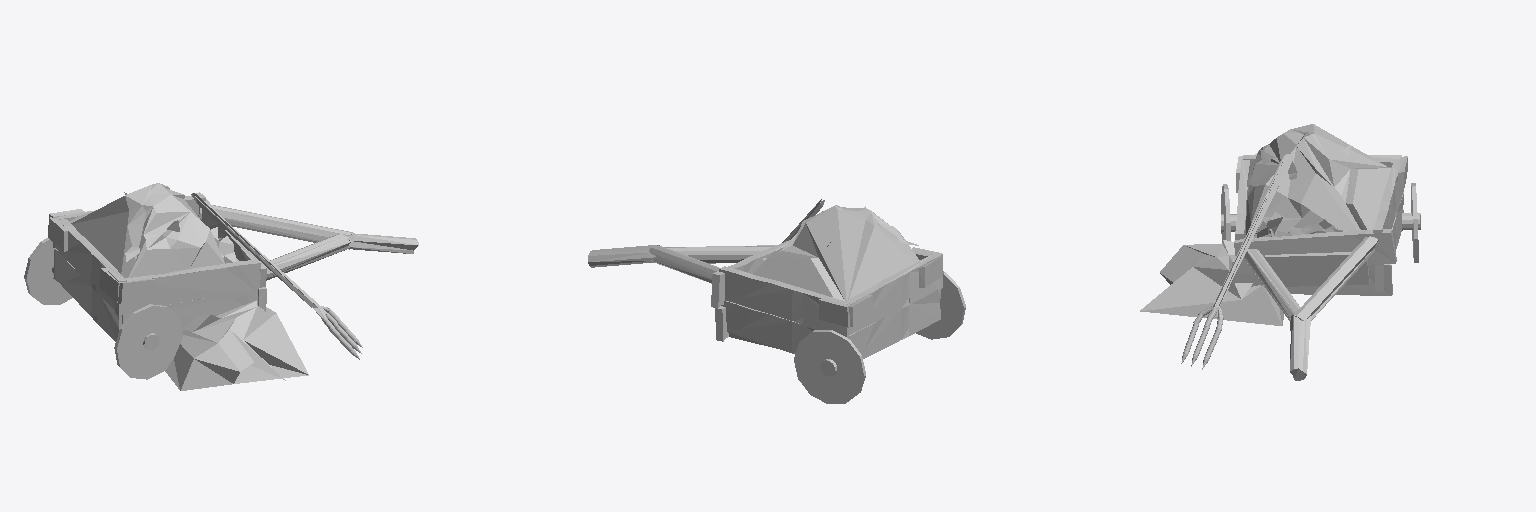
3 views of the same model, side by side, from view 1: azimuth 30°, elevation 25°; view 2: azimuth 150°, elevation 25°; view 3: azimuth 270°, elevation 25° (orthographic).
Visible parts, largest first — view 1: group[number redacted]; view 2: group[number redacted]; view 3: group[number redacted].
Boxes of the visible parts, x1=… form: group[number redacted]: x1=24, y1=183, x2=418, y2=390; group[number redacted]: x1=588, y1=199, x2=965, y2=403; group[number redacted]: x1=1140, y1=124, x2=1420, y2=380.
Size of the model in its own units: 0.8785 by 0.4053 by 0.6345.